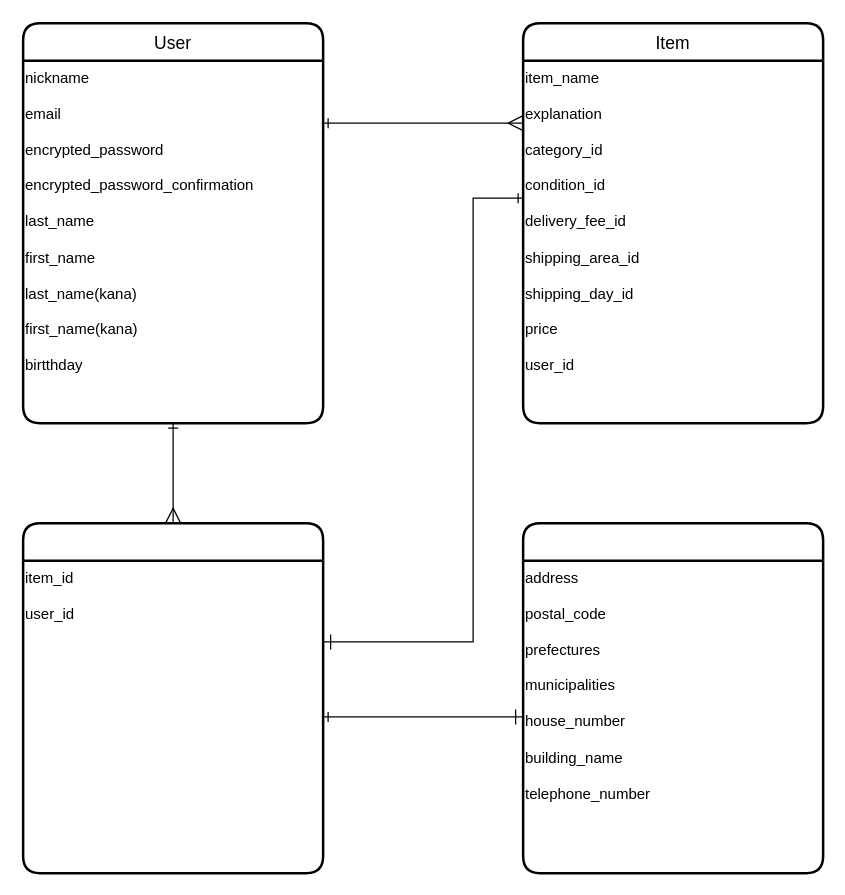
This 845x895 diagram has some shape labels left out. The box of each missing label's shape, as (x1, y1, x2, y2) in pixels:
Buy: (21, 521, 324, 874)
Delivery: (521, 521, 824, 874)
